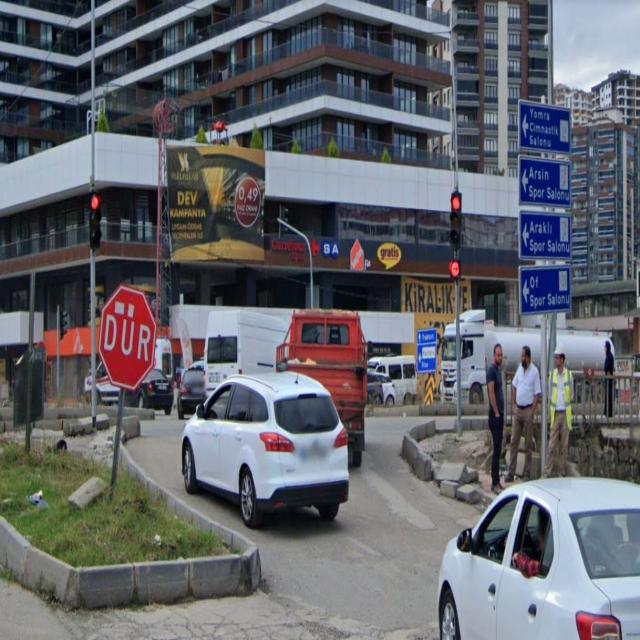dur: (101, 290, 155, 383)
kirmizi: (449, 193, 462, 250), (90, 194, 101, 247)
